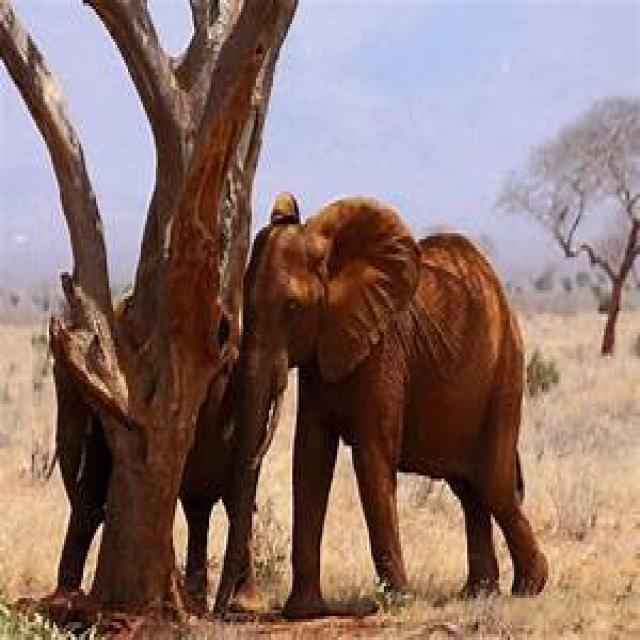elephant: (224, 197, 550, 619)
